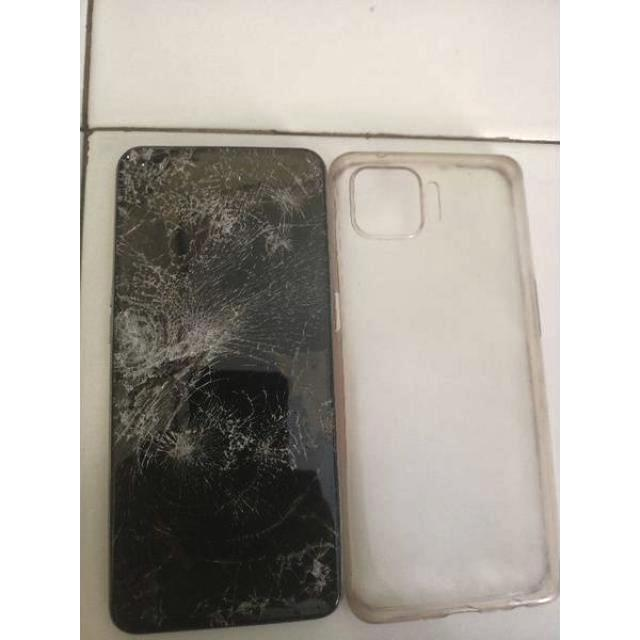phone: (113, 144, 342, 624)
